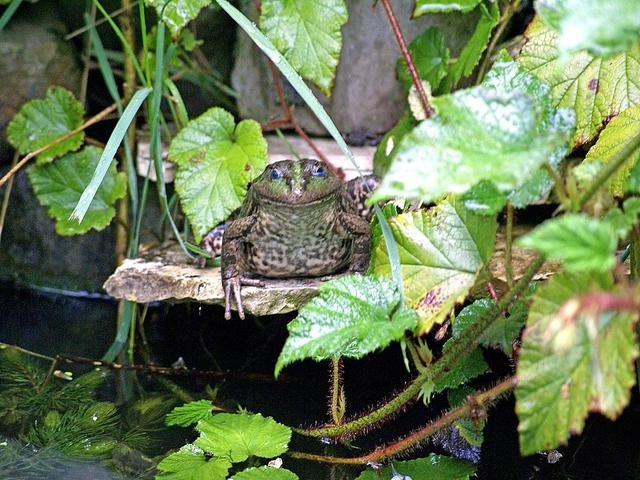frog: (201, 133, 419, 330)
